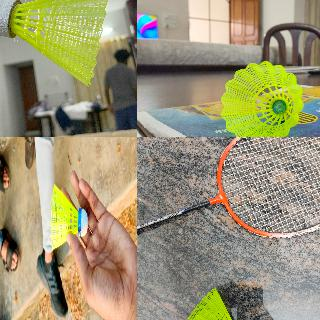shuttlecock: (0, 0, 113, 86), (221, 61, 304, 136), (50, 184, 88, 250), (184, 288, 244, 319)
